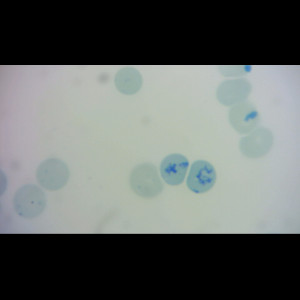aggregate reticulocyte: (186, 159, 219, 195), (159, 153, 190, 186)
erythrocyte: (215, 76, 254, 108), (238, 127, 275, 159), (228, 101, 262, 135)
punctate reticulocyte: (128, 161, 165, 200), (13, 184, 48, 220), (36, 157, 71, 191), (114, 67, 144, 97)
